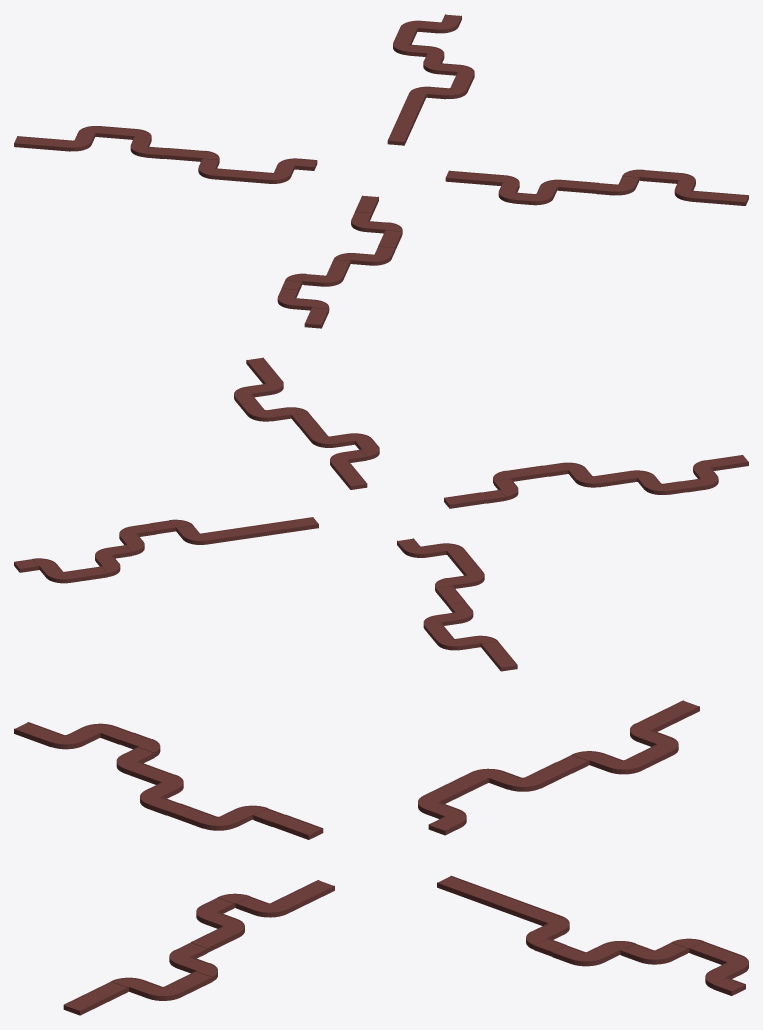
Rendered from routes.glb.
3 views of the same model, one above another, from view 1: azimuth 30°, elevation 25°; view 2: azimuth 150°, elevation 25°; view 3: azimuth 270°, elevation 25° (orthographic). The views are drawn at different scales.
Bounding box in the file's own units: 116 × 1.16 × 117.
